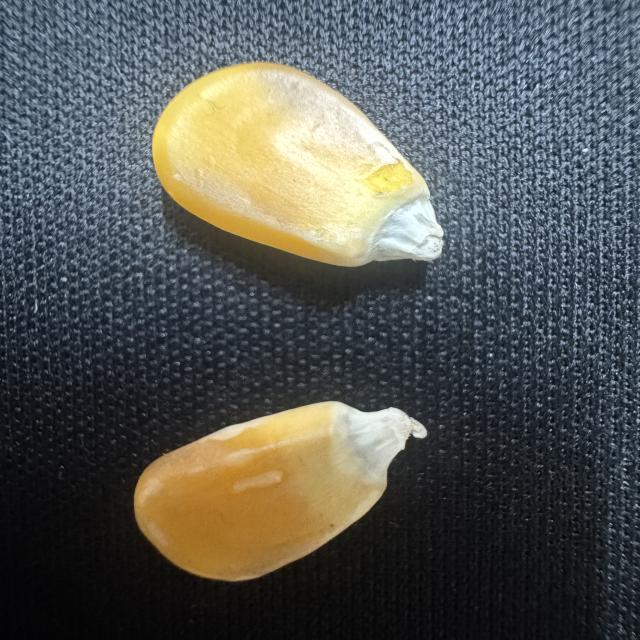Good-Seed: (142, 56, 457, 274), (124, 386, 446, 592)
